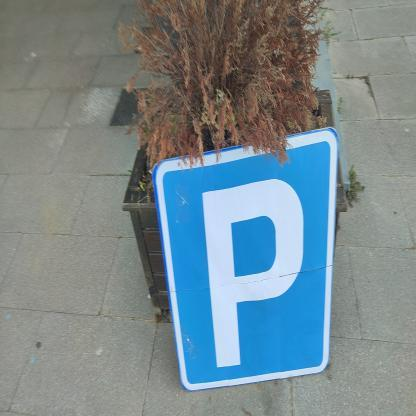parking: (151, 132, 337, 398)
